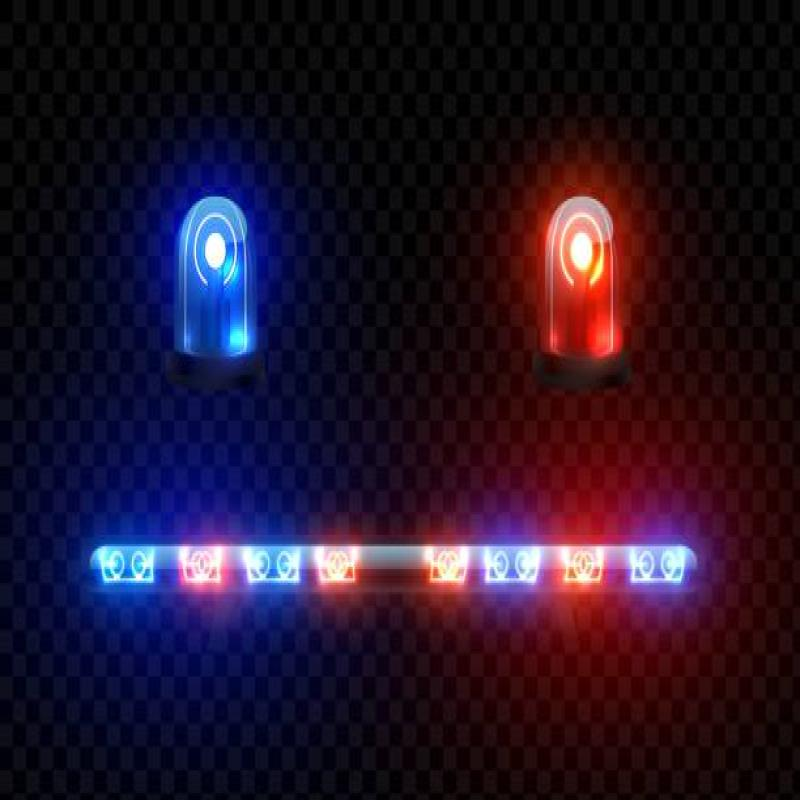AmbulanceSiren: (58, 511, 704, 648), (141, 174, 278, 397), (512, 180, 632, 407)
